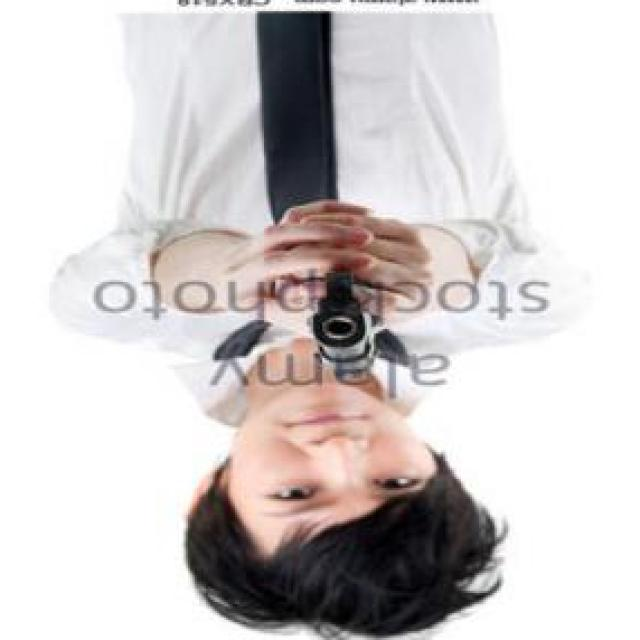pistol: (305, 248, 385, 376)
